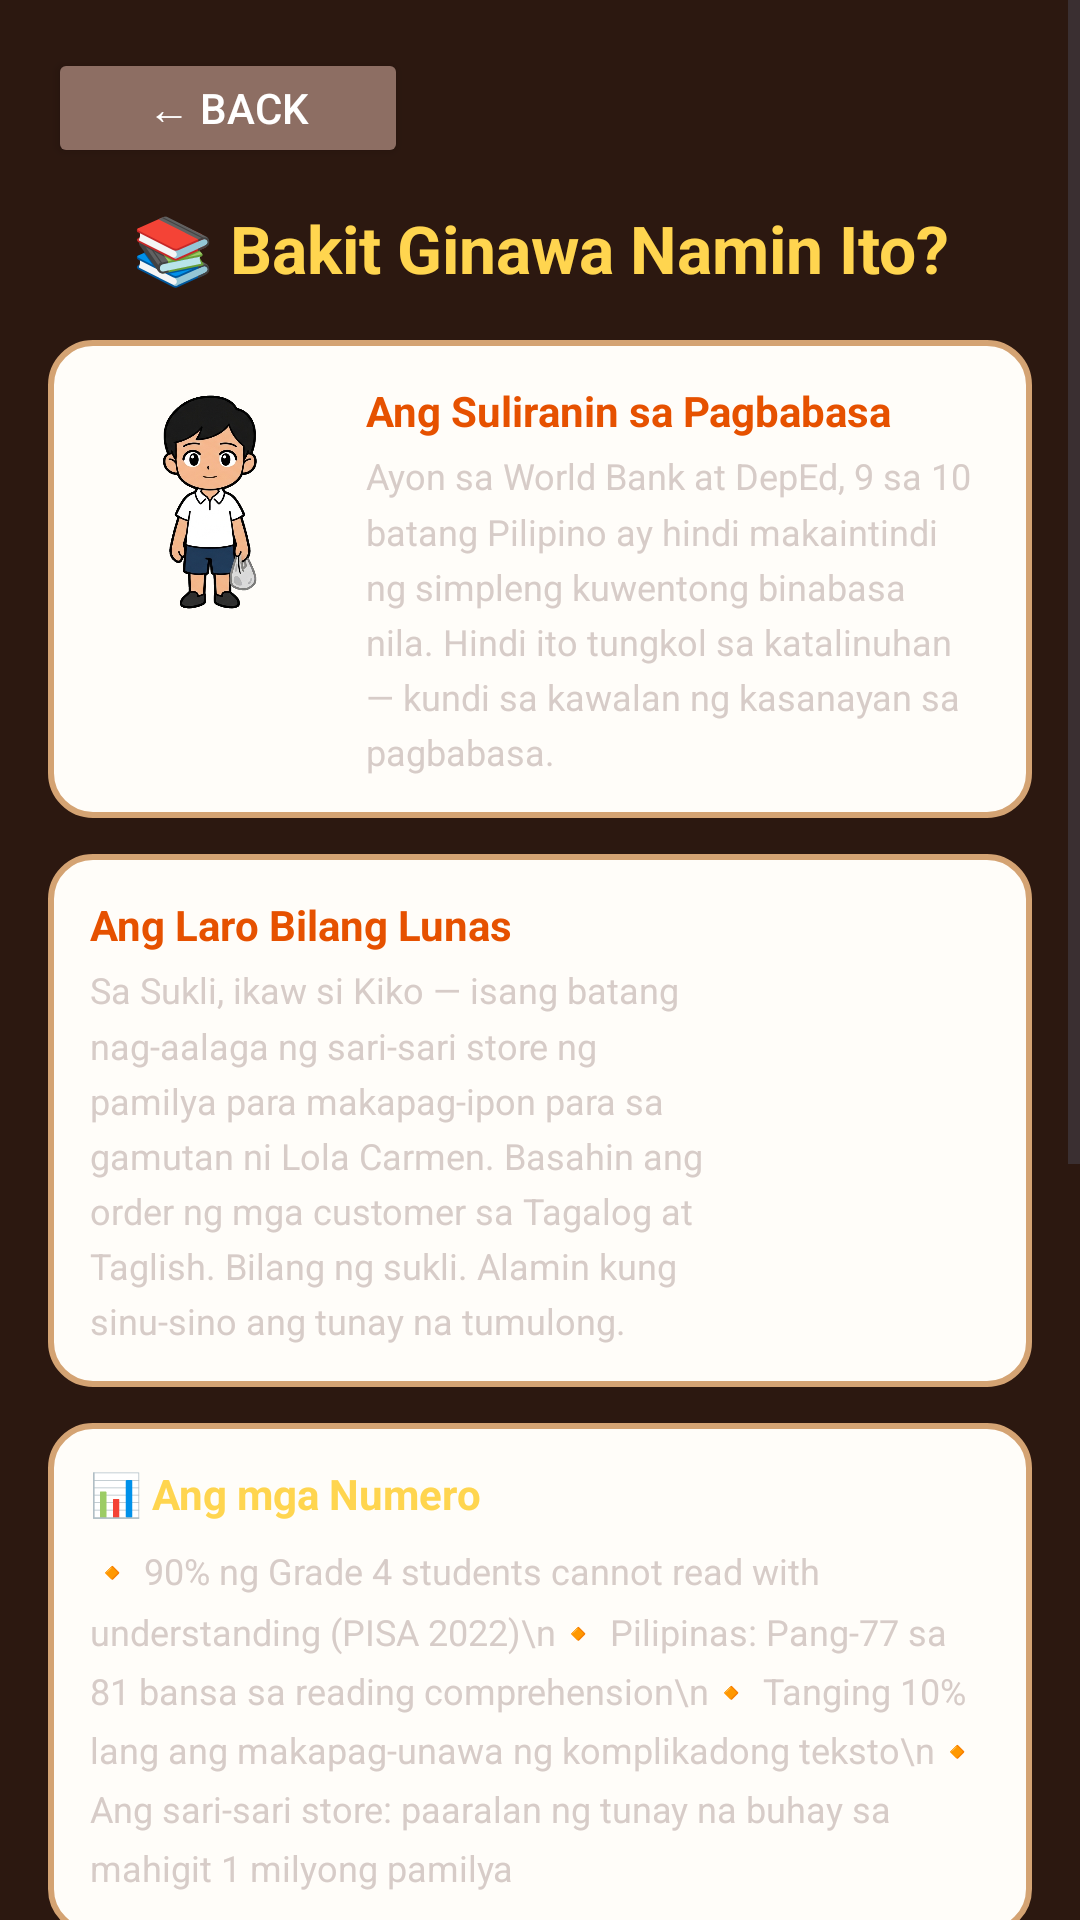

Where icons sit on this 1080×1920 app screen, as BBox(x1, y1, x2, y2):
char student boy neutral: BBox(163, 395, 257, 609)
